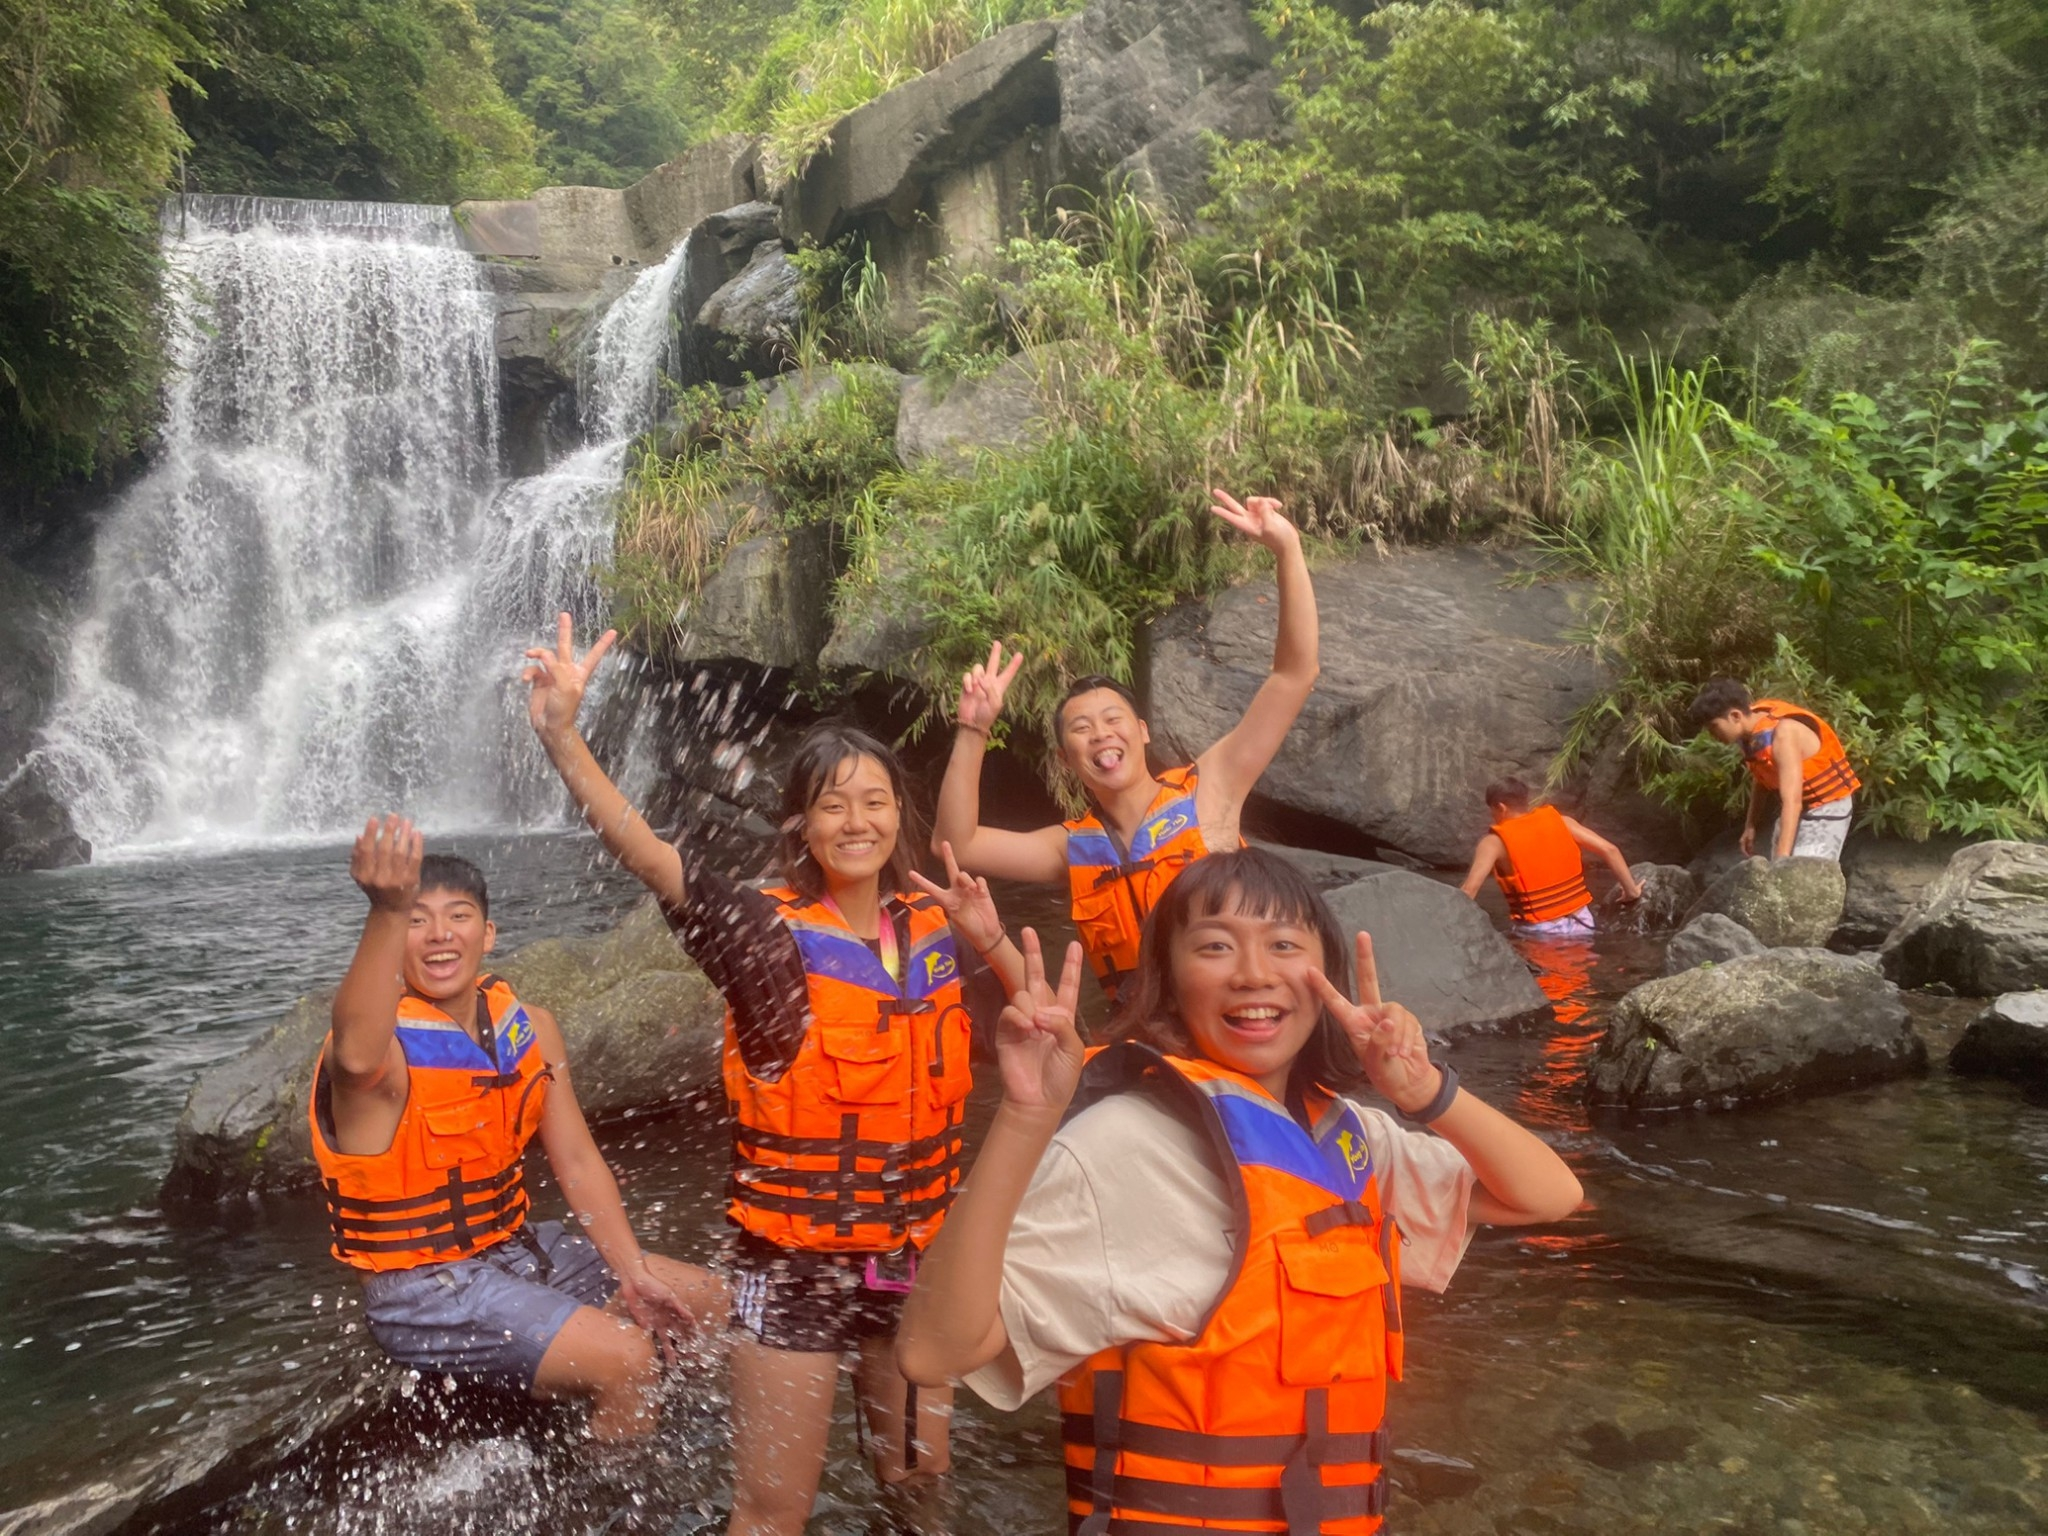people: (999, 869, 1399, 1536), (346, 869, 699, 1434), (716, 737, 949, 1525), (1025, 684, 1257, 996), (1693, 702, 1857, 896), (1475, 772, 1602, 949)
